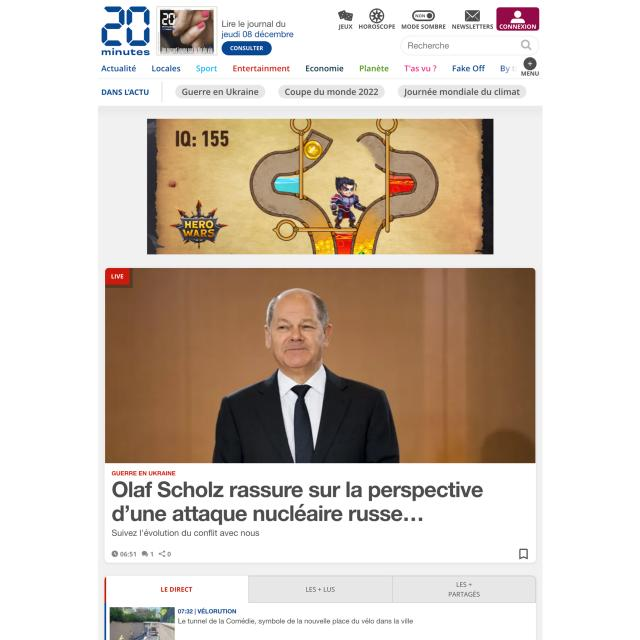CheckBox: (222, 41, 272, 55)
CheckedTextView: (401, 36, 539, 56)
ImageView: (147, 118, 495, 255)
Input field: (109, 527, 261, 541)
bag: (98, 0, 542, 106)
carousel: (412, 10, 435, 22), (369, 8, 385, 23), (338, 9, 354, 23), (464, 10, 481, 22), (520, 38, 533, 52), (517, 548, 529, 560)
copy: (103, 268, 536, 462)
data feed: (230, 45, 264, 52)
date picker: (102, 4, 152, 57)
decoration: (99, 60, 520, 76), (336, 7, 494, 31), (520, 56, 540, 76)
footer: (407, 40, 450, 51)
icon: (105, 575, 538, 607)
illustration: (398, 85, 526, 98), (278, 84, 385, 99), (175, 84, 265, 99)
image: (110, 480, 488, 525)
